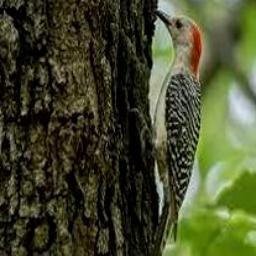Woodpecker: (127, 8, 202, 256)
